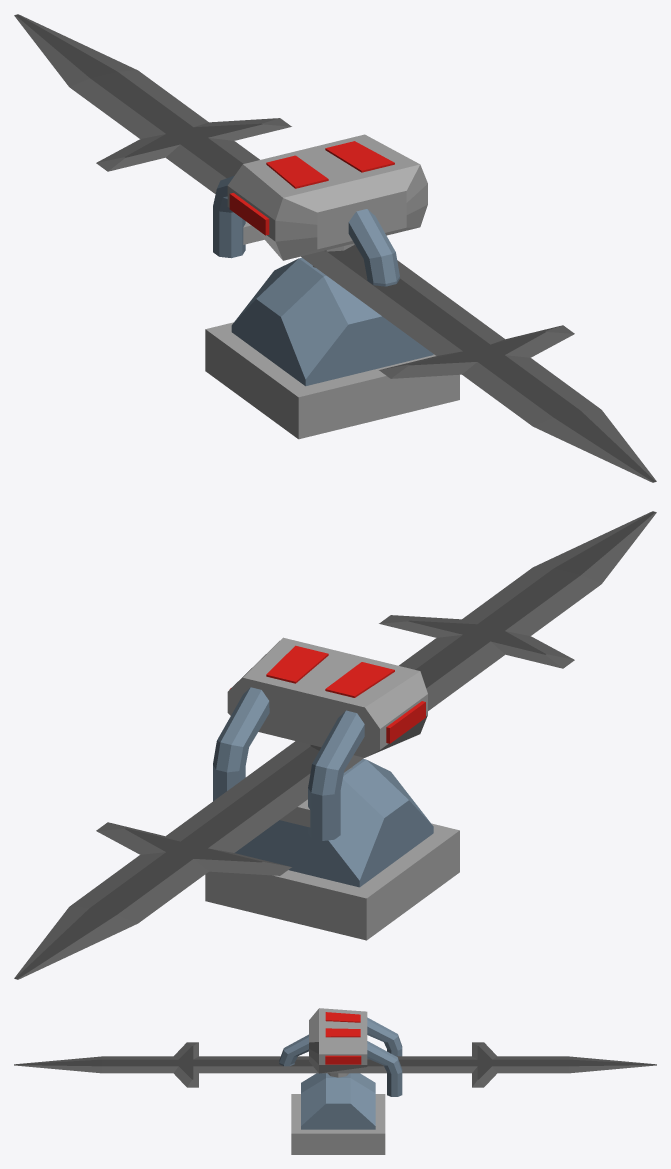
The model's file is TurmNahE.fbx.
3 views of the same model, one above another, from view 1: azimuth 30°, elevation 25°; view 2: azimuth 150°, elevation 25°; view 3: azimuth 270°, elevation 25° (orthographic). The views are drawn at different scales.
Visible parts, largest first — view 1: Cube, Cube.003, Cube.004; view 2: Cube, Cube.003, Cube.004; view 3: Cube, Cube.003, Cube.004.
Part boxes in pixels (<box>): Cube: <box>14,14,656,482</box>; Cube.003: <box>205,257,459,439</box>; Cube.004: <box>213,134,427,286</box>; Cube: <box>14,511,656,979</box>; Cube.003: <box>205,759,459,940</box>; Cube.004: <box>213,637,427,840</box>; Cube: <box>14,1042,656,1087</box>; Cube.003: <box>291,1073,385,1154</box>; Cube.004: <box>279,1008,402,1096</box>.
Bounding box in the file's own units: 146 × 167 × 877.
